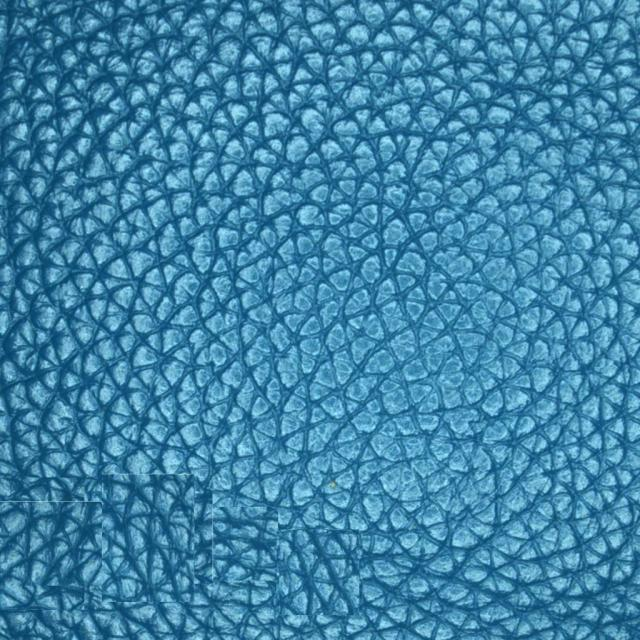Healed Injury: (19, 456, 288, 598), (333, 492, 538, 620)
